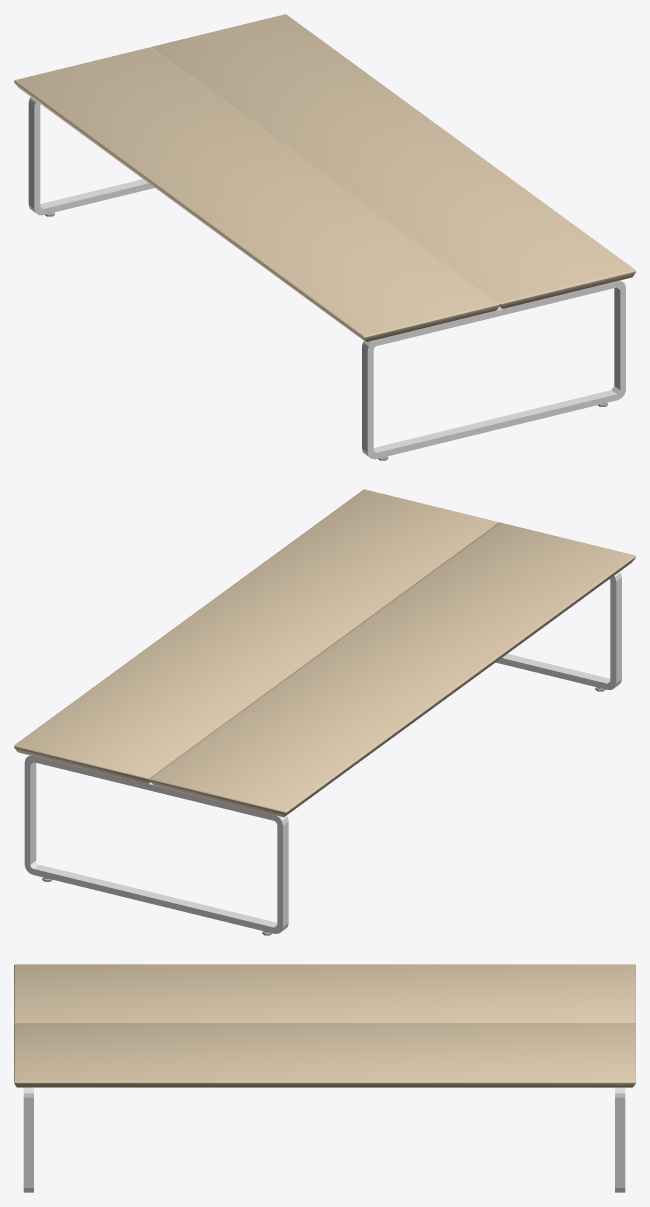
The model's file is table.fbx.
The picture shows the model from 3 angles, top to bottom: view 1: azimuth 30°, elevation 25°; view 2: azimuth 150°, elevation 25°; view 3: azimuth 270°, elevation 25°; orthographic projection. The views are drawn at different scales.
Parts seen in each view (by area): view 1: table_01; view 2: table_01; view 3: table_01.
Part boxes in pixels (x1=…): table_01: x1=14, y1=14, x2=635, y2=460; table_01: x1=14, y1=489, x2=635, y2=935; table_01: x1=14, y1=964, x2=635, y2=1192.
Size of the model in its own units: 163 by 77.36 by 364.
